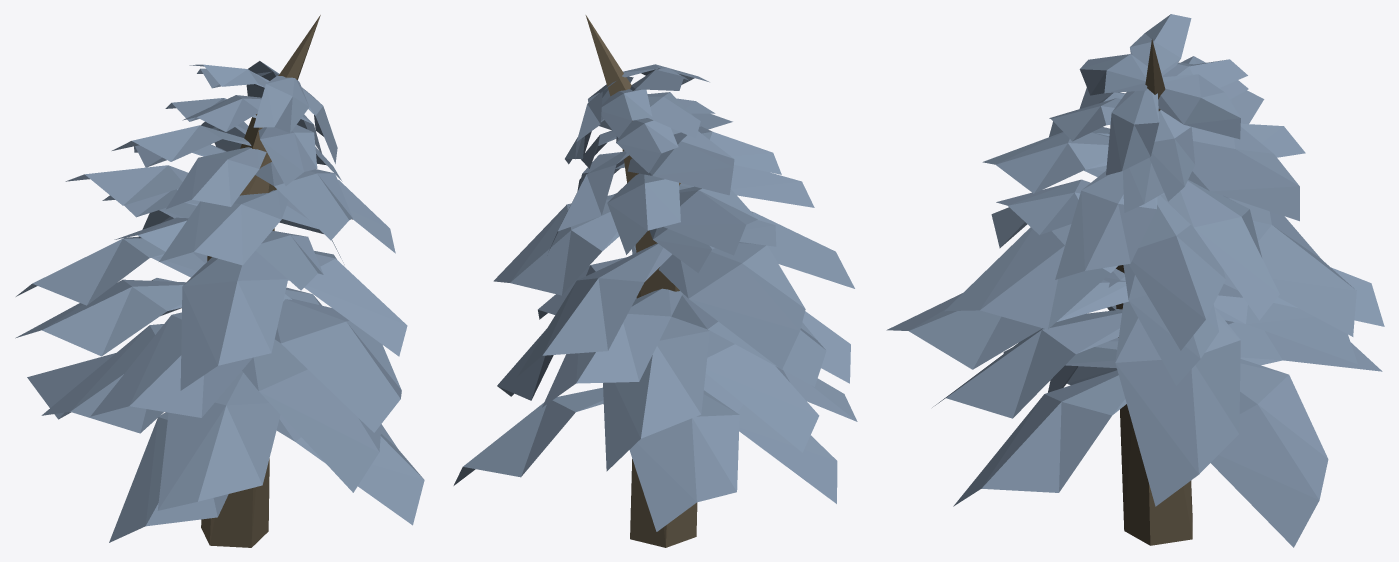
File: Blue_Spruce_5_3.fbx
3 views of the same model, side by side, from view 1: azimuth 30°, elevation 25°; view 2: azimuth 150°, elevation 25°; view 3: azimuth 270°, elevation 25° (orthographic). The views are drawn at different scales.
Parts seen in each view (by area): view 1: Spurce_5_3; view 2: Spurce_5_3; view 3: Spurce_5_3.
Part boxes in pixels (bbox=[...]): Spurce_5_3: bbox=[15, 15, 424, 547]; Spurce_5_3: bbox=[453, 15, 857, 547]; Spurce_5_3: bbox=[886, 14, 1384, 547].
Size of the model in its own units: 388 by 544 by 459.
